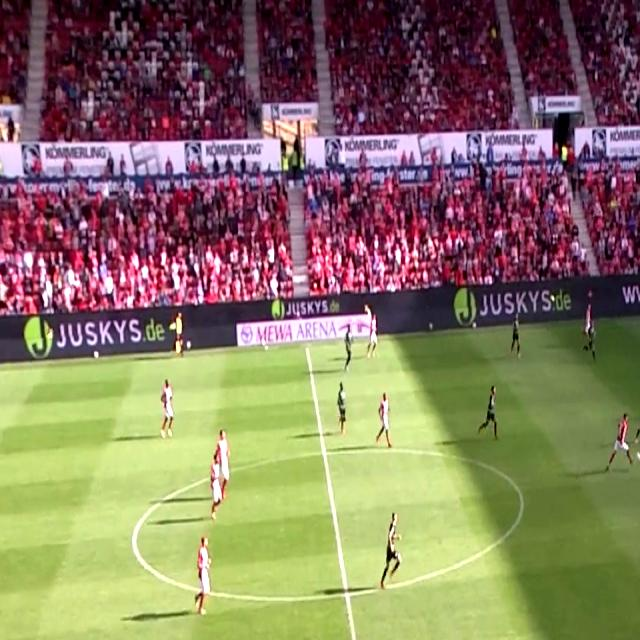ball: (633, 446, 640, 467)
referee: (172, 306, 196, 358)
soccer-player: (203, 429, 237, 527), (372, 508, 407, 599), (188, 531, 220, 619), (605, 410, 640, 477), (478, 382, 507, 446), (370, 388, 396, 454), (154, 377, 179, 443), (359, 298, 381, 361), (334, 380, 354, 438), (340, 312, 359, 372), (580, 300, 597, 361), (508, 314, 524, 361), (634, 390, 640, 450)
